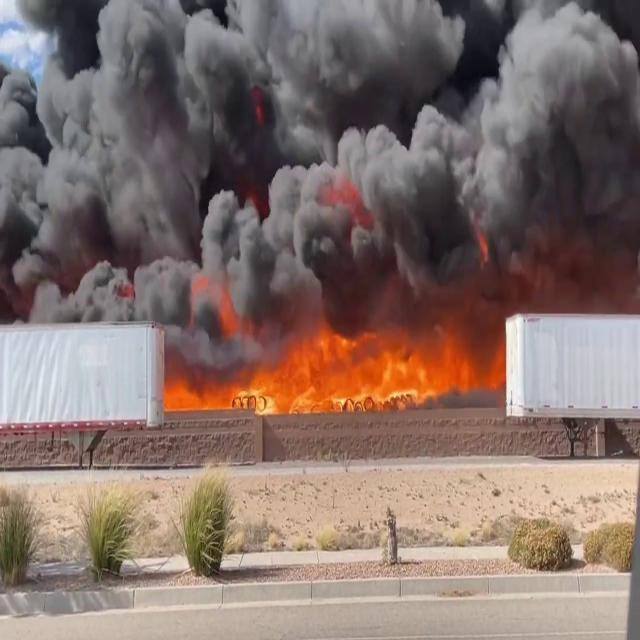Fire: (164, 311, 493, 413)
Smoke: (1, 0, 637, 330)
